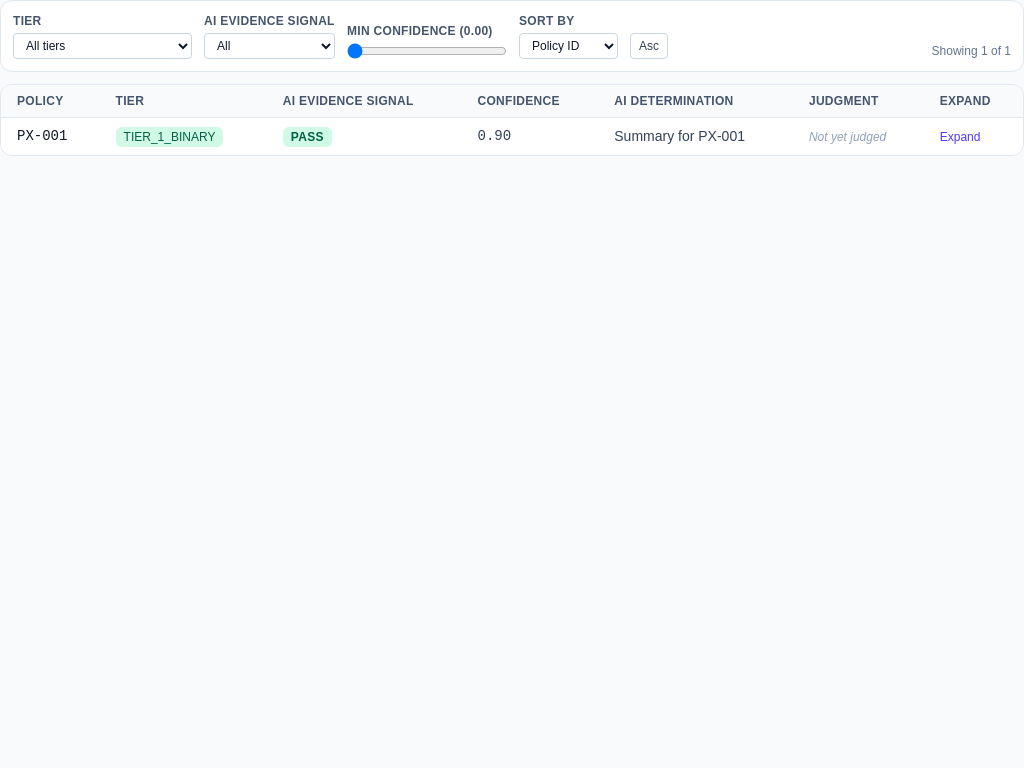
Test: PerPolicyResultsTable AI Determination + policy text + tech disclosure › falls back to schema-v0.0.1 message when evidenceSlices is null
This screenshot has width=1024, height=768.
Click the button with test id "per-policy-expand-toggle" at [960, 137], box [940,129,980,145]
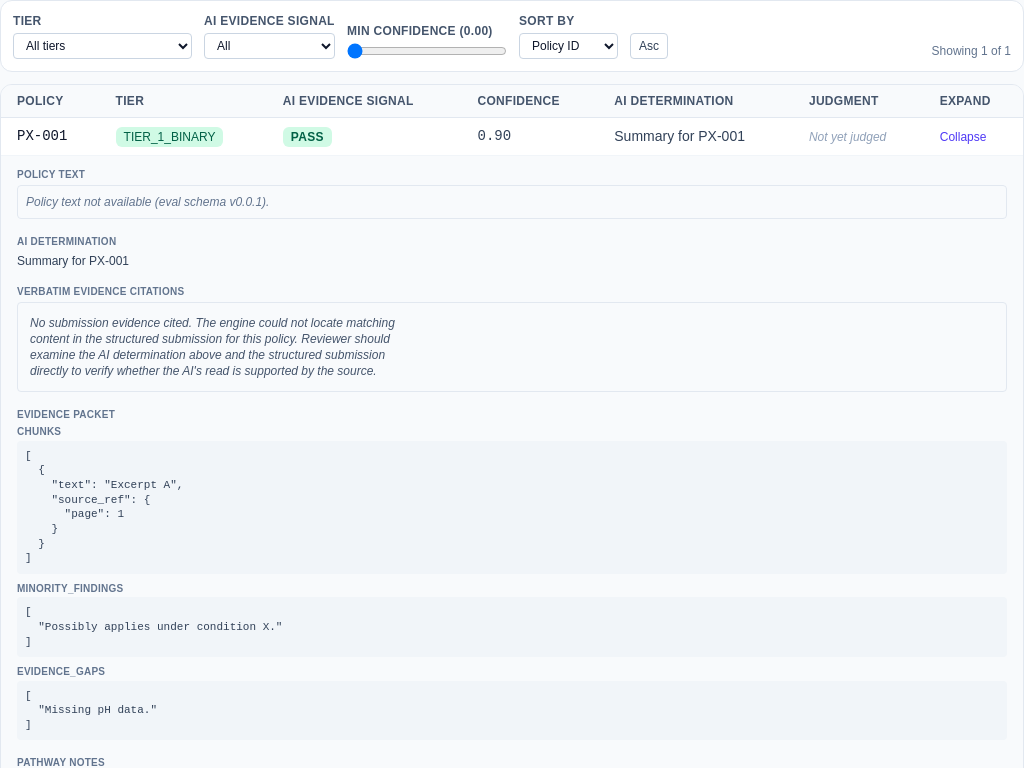
Expected: the text "Policy text not available (eval schema v0.0.1)." is shown, [17,185,1007,219]
